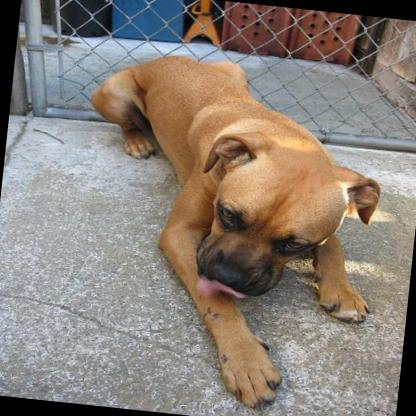boxer: (55, 43, 394, 416)
